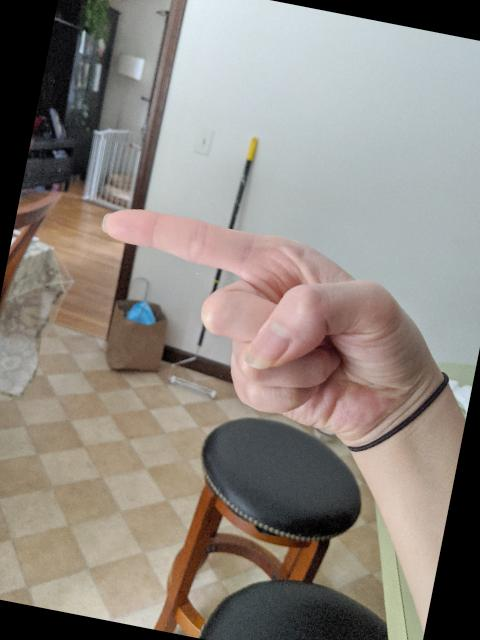G: (62, 194, 440, 456)
